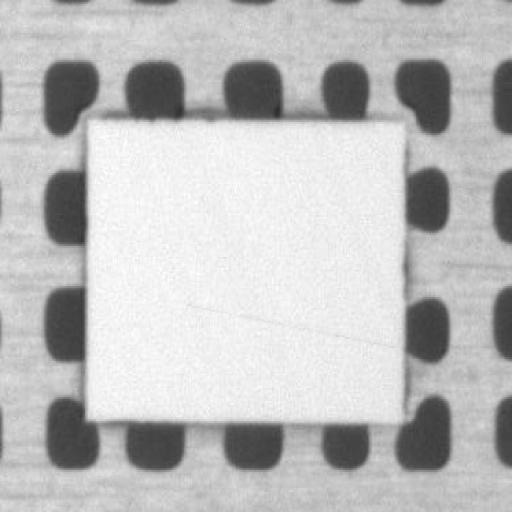DIE_CRACK: (245, 227, 512, 258)
